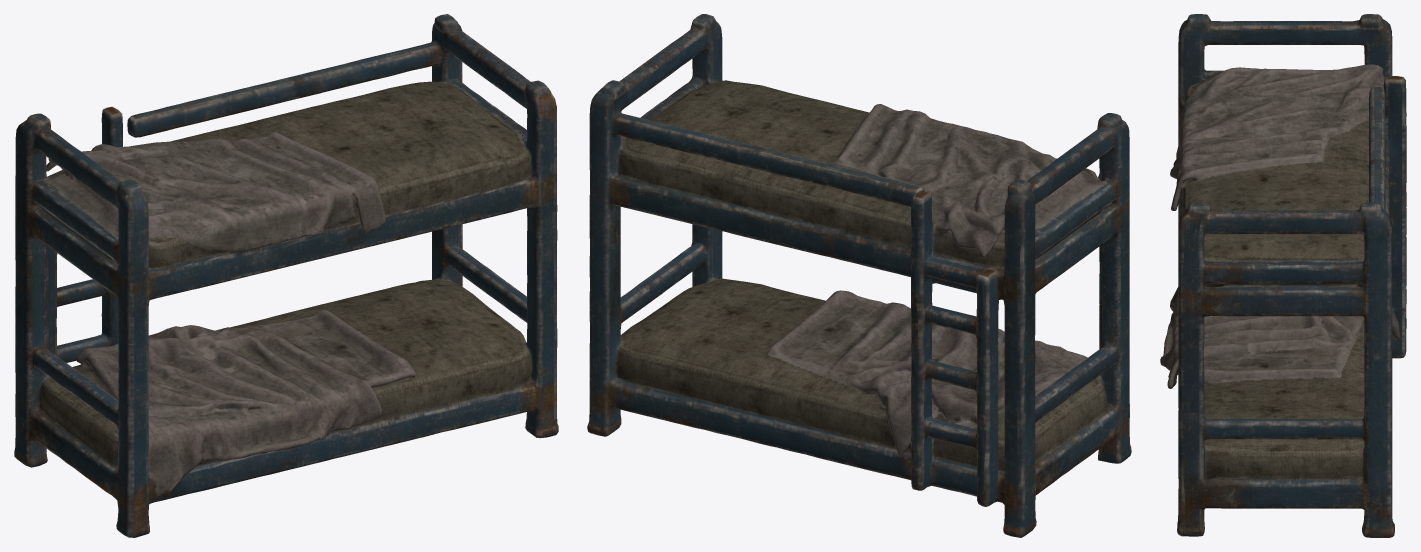
Rendered from raw.glb.
3 views of the same model, side by side, from view 1: azimuth 30°, elevation 25°; view 2: azimuth 150°, elevation 25°; view 3: azimuth 270°, elevation 25° (orthographic). The views are drawn at different scales.
Bounding box in the file's own units: 0.9614 × 0.7286 × 0.4942.
Materials: 1 (1 with a texture image).
